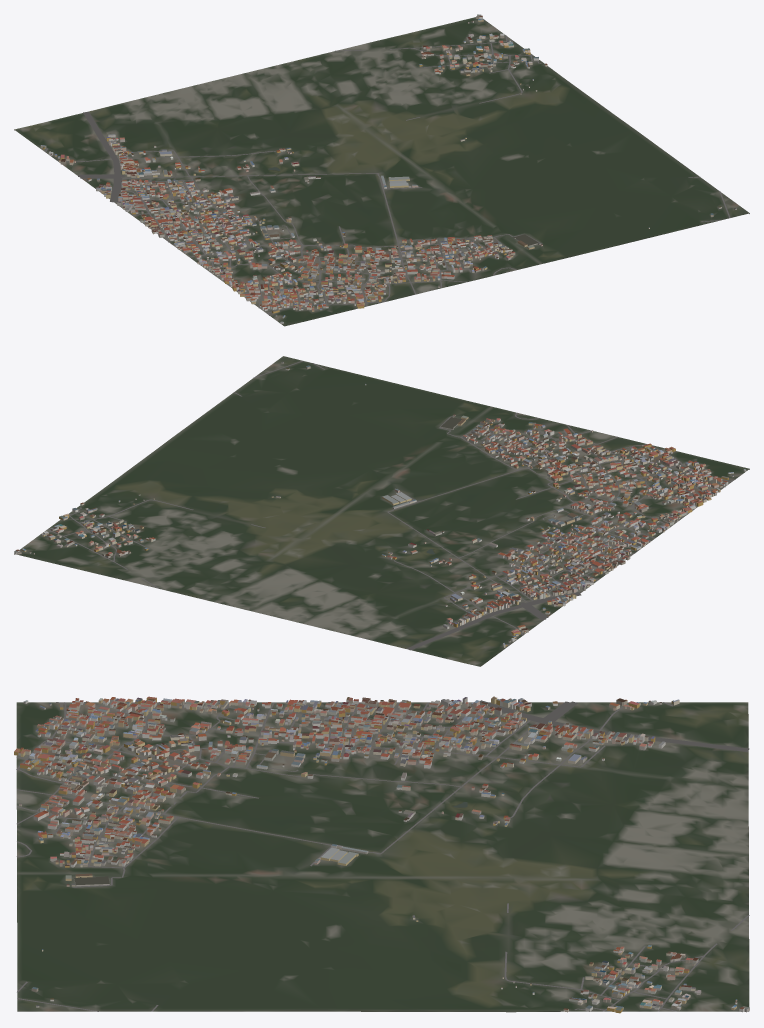
The picture shows the model from 3 angles, top to bottom: view 1: azimuth 30°, elevation 25°; view 2: azimuth 150°, elevation 25°; view 3: azimuth 270°, elevation 25°; orthographic projection. The views are drawn at different scales.
Visible parts, largest first — view 1: ground, buildings, roads; view 2: ground, buildings, roads; view 3: ground, buildings, roads.
Part boxes in pixels (x1,y1,x2,y2): ground: (14, 17, 749, 326); buildings: (40, 14, 736, 323); roads: (45, 35, 730, 315); ground: (14, 356, 749, 666); buildings: (14, 361, 746, 647); roads: (47, 360, 735, 650); ground: (16, 702, 749, 1012); buildings: (14, 696, 749, 1013); roads: (16, 700, 749, 1011).
Size of the model in its own units: 1414 by 21.68 by 1410.
